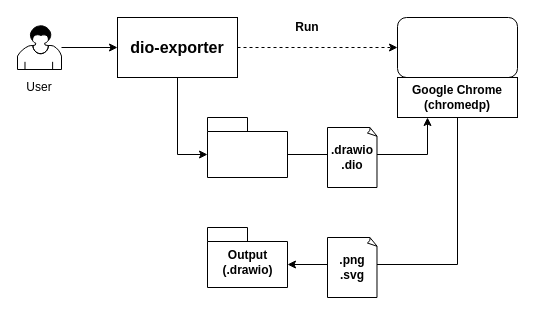
The diagram is 535 pixels wide and 315 high, and some of its shapes have lost their labels. Here are the shapes that lost their labels. From the top down, the centre of each, then its label:
(x=457, y=47): drawio
(x=247, y=147): Input (.drawio)
